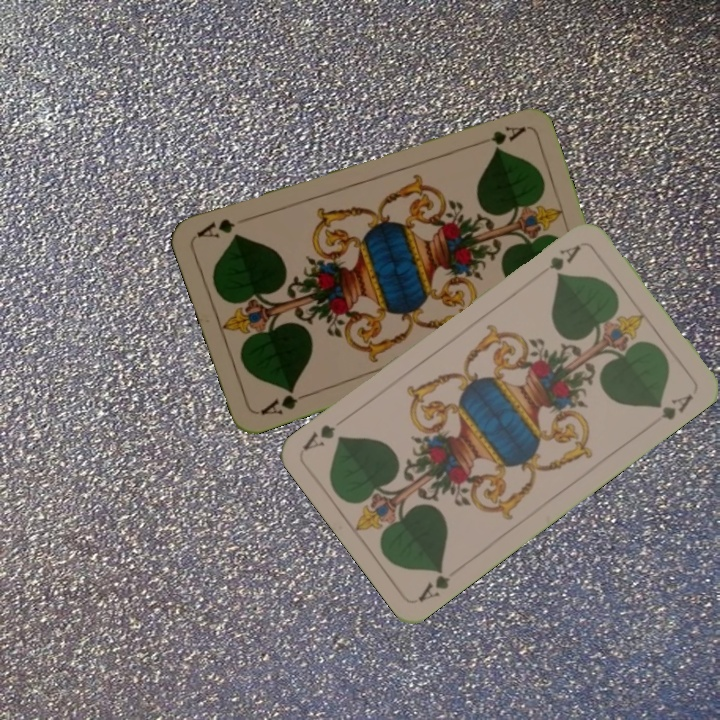GA: (256, 384, 312, 418), (534, 240, 584, 278), (414, 563, 453, 605), (470, 122, 528, 149)
